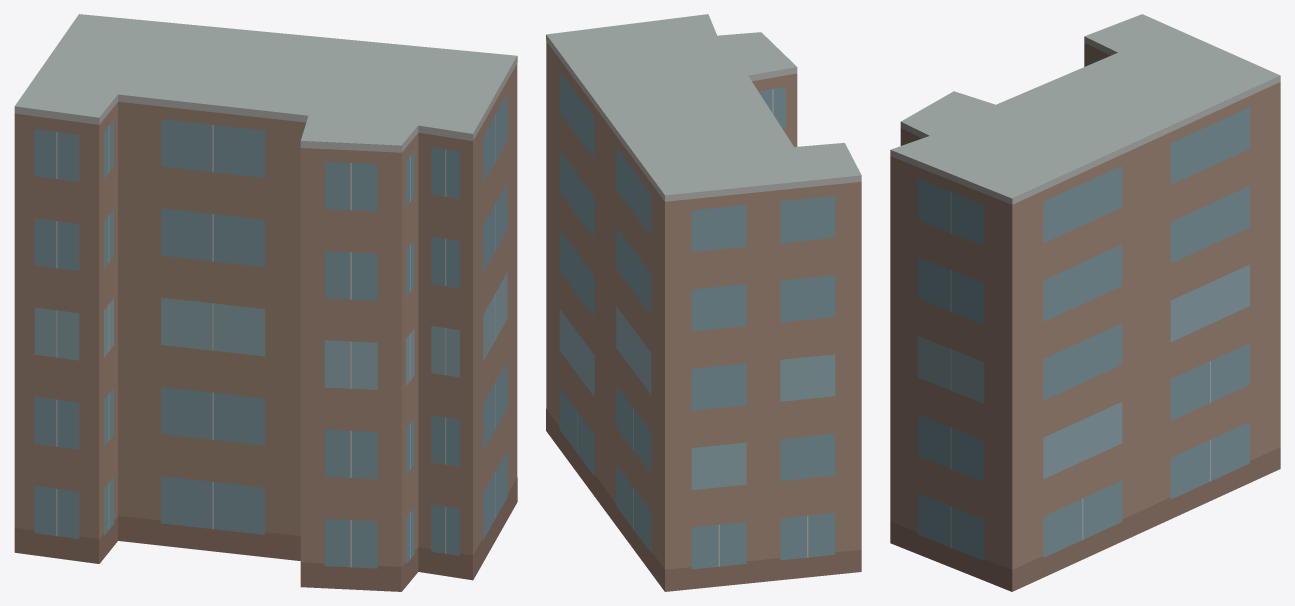
The model's file is survey-upis-32643642.glb.
The picture shows the model from 3 angles, left to right: view 1: azimuth 30°, elevation 25°; view 2: azimuth 150°, elevation 25°; view 3: azimuth 270°, elevation 25°; orthographic projection. The views are drawn at different scales.
Parts seen in each view (by area): view 1: survey-upis-32643642.tmp; view 2: survey-upis-32643642.tmp; view 3: survey-upis-32643642.tmp.
Part boxes in pixels (x1,y1,x2,y2): survey-upis-32643642.tmp: (14, 14, 517, 591); survey-upis-32643642.tmp: (546, 14, 861, 591); survey-upis-32643642.tmp: (890, 14, 1280, 591).
Bounding box in the file's own units: 15.35 × 15.25 × 13.72.
